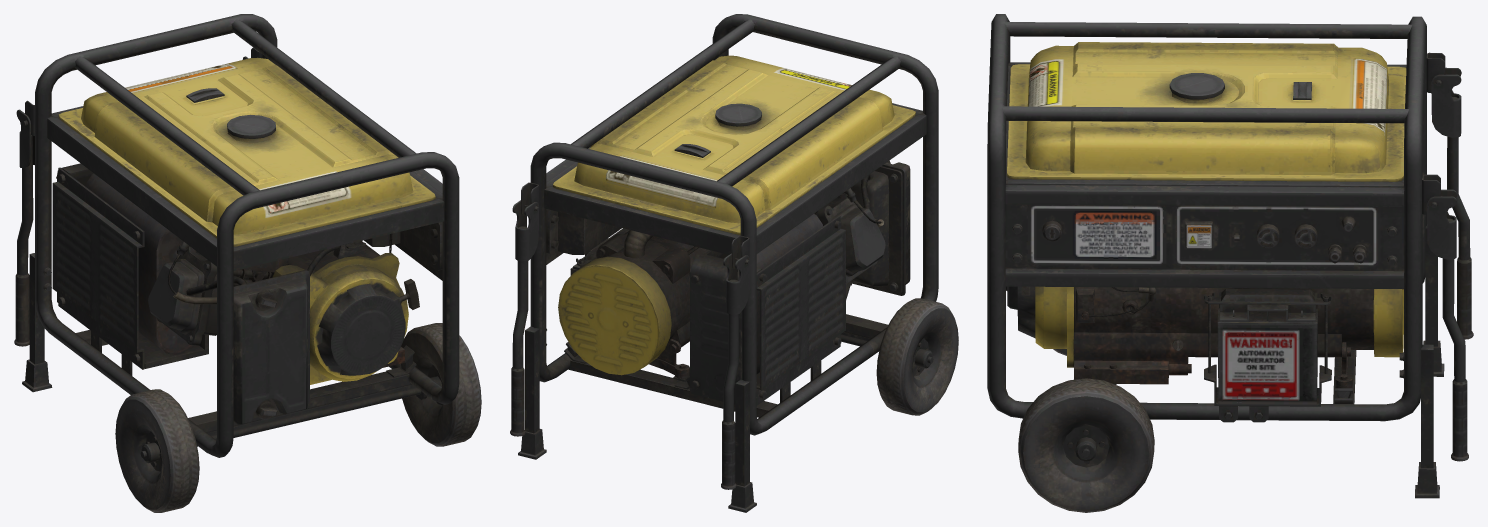
File: diesel_SPG.fbx
3 views of the same model, side by side, from view 1: azimuth 30°, elevation 25°; view 2: azimuth 150°, elevation 25°; view 3: azimuth 270°, elevation 25° (orthographic). The views are drawn at different scales.
Parts seen in each view (by area): view 1: diesel_SPG; view 2: diesel_SPG; view 3: diesel_SPG.
Boxes of the visible parts, box(x1,y1,x2,y2) form: diesel_SPG: box(14, 14, 481, 512); diesel_SPG: box(510, 14, 958, 512); diesel_SPG: box(987, 14, 1473, 512).
Bounding box in the file's own units: 39.61 × 40.21 × 48.31.
1 material, 1 textured.
